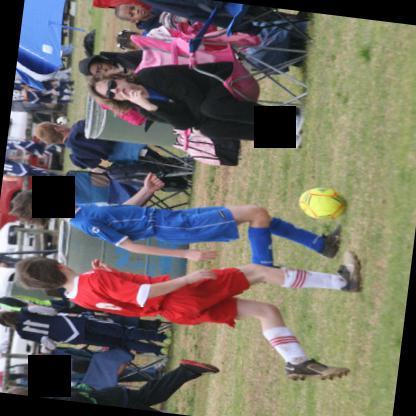backpack: (106, 156, 190, 191), (170, 125, 242, 165)
handbag: (172, 125, 241, 165)
